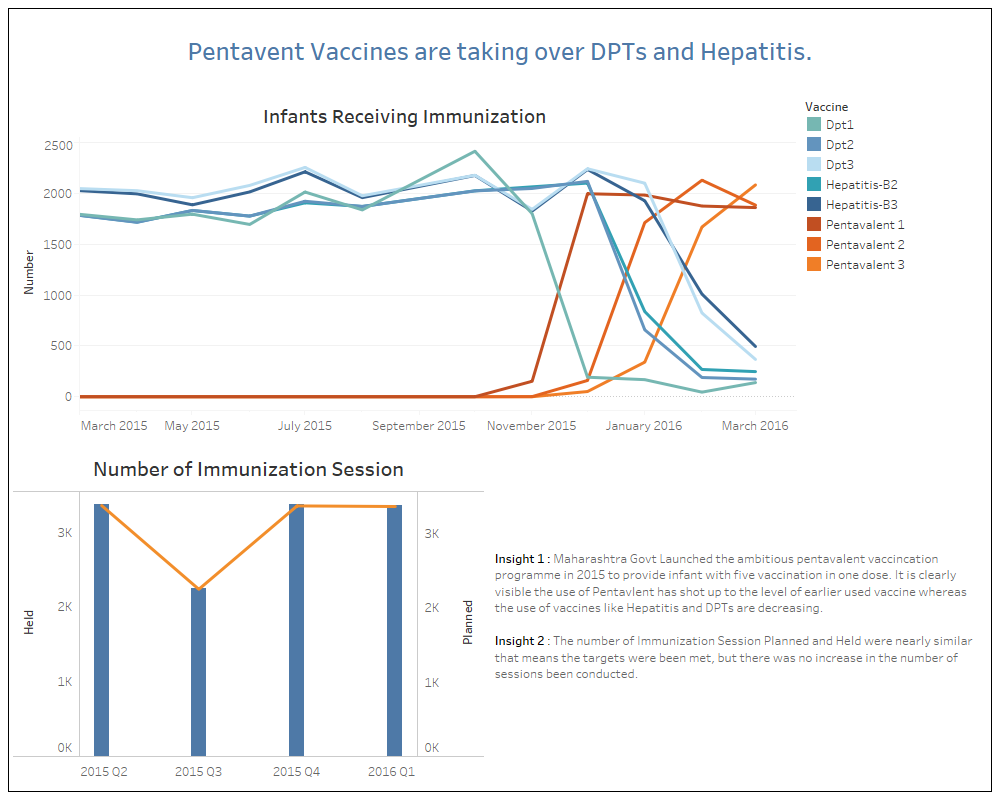

The page's visual inventory and layout, read from the dashboard file:
{"tool":"tableau","page":{"name":"Infant Immunization","canvas":[1000,800],"ordinal":0},"visuals":[{"type":"text","box":[9,9,982,82.8]},{"type":"worksheet","title":"Vaccine","mark":"Automatic","cols":["Key_ID"],"box":[9,91.8,791.3,352.1]},{"type":"legend","title":"Vaccine","param":"[federated.1tdhik11esly3z1fj6mvc150awxe].[:Measure Names]","box":[800.3,91.8,190.7,352.1]},{"type":"worksheet","title":"Immunization Session","mark":"Automatic","rows":["Held 10.4.2","Planned 10.4.1"],"cols":["Key_ID"],"box":[9,443.9,479,347.1]},{"type":"text","box":[488,443.9,503,347.1]}]}

Visuals, with their boxes in screenshot pixels (x1, y1, x2, y2), scaled from the page's 1000x800 canvas onto the 1000x800 screenshot:
text: (left=9, top=9, right=991, bottom=92)
"Vaccine" worksheet: (left=9, top=92, right=800, bottom=444)
"Vaccine" legend: (left=800, top=92, right=991, bottom=444)
"Immunization Session" worksheet: (left=9, top=444, right=488, bottom=791)
text: (left=488, top=444, right=991, bottom=791)
